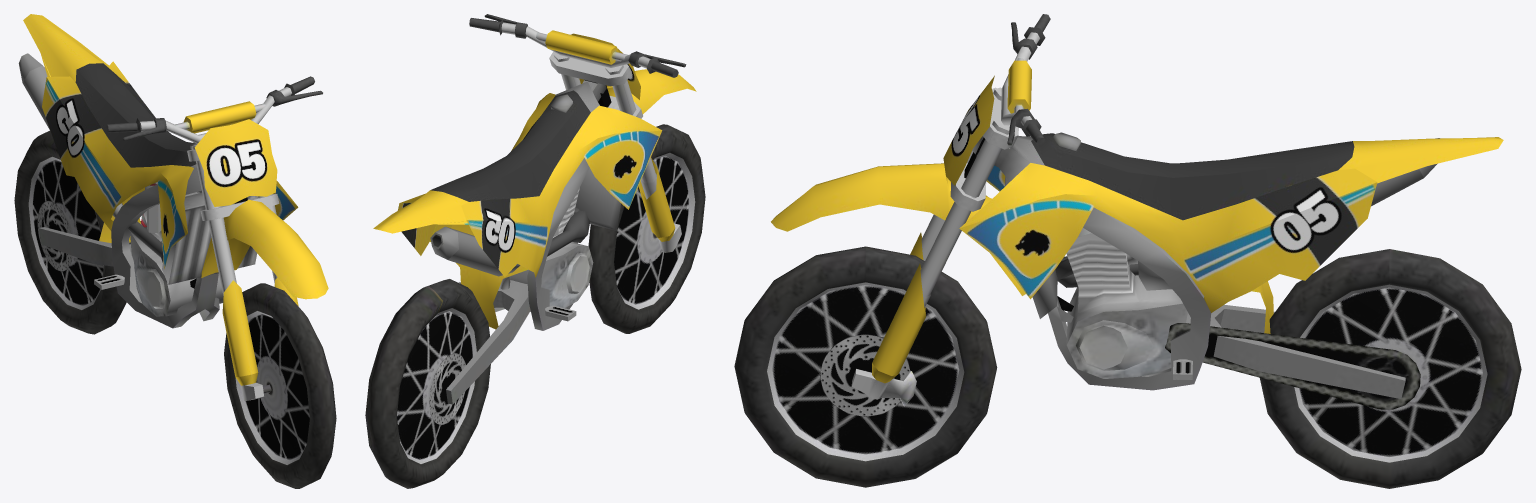
File: dirtbike_yellow.glb
3 renders of one model, left to right at view 1: azimuth 30°, elevation 25°; view 2: azimuth 150°, elevation 25°; view 3: azimuth 270°, elevation 25°, orthographic. The views are drawn at different scales.
Parts seen in each view (by area): view 1: body, wheel_f, wheel_r; view 2: body, wheel_r, wheel_f; view 3: body, wheel_f, wheel_r.
Boxes of the visible parts, bbox=[...] form: body: bbox=[18, 14, 328, 400]; wheel_f: bbox=[224, 283, 336, 488]; wheel_r: bbox=[14, 130, 130, 334]; body: bbox=[373, 14, 696, 404]; wheel_r: bbox=[365, 279, 490, 488]; wheel_f: bbox=[588, 124, 705, 333]; body: bbox=[771, 14, 1503, 409]; wheel_f: bbox=[734, 246, 997, 487]; wheel_r: bbox=[1260, 249, 1521, 488].
Size of the model in its own units: 0.7842 by 1.21 by 2.09.
1 material, 1 textured.
